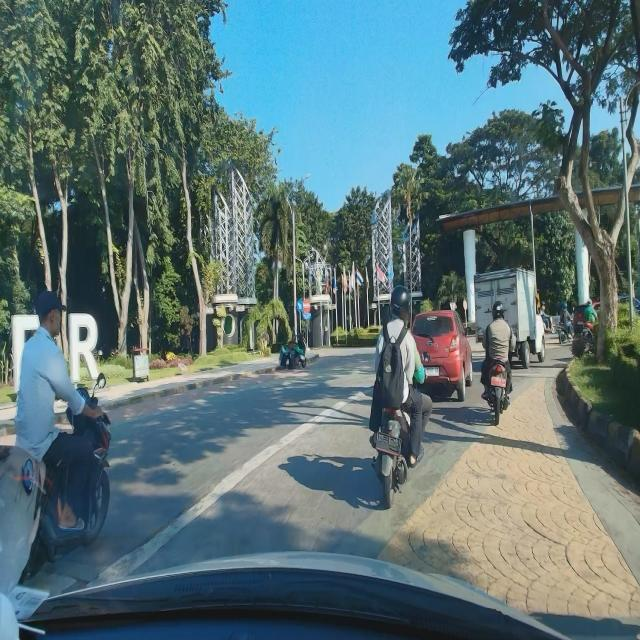car: (406, 310, 474, 403)
truck: (472, 266, 546, 369)
